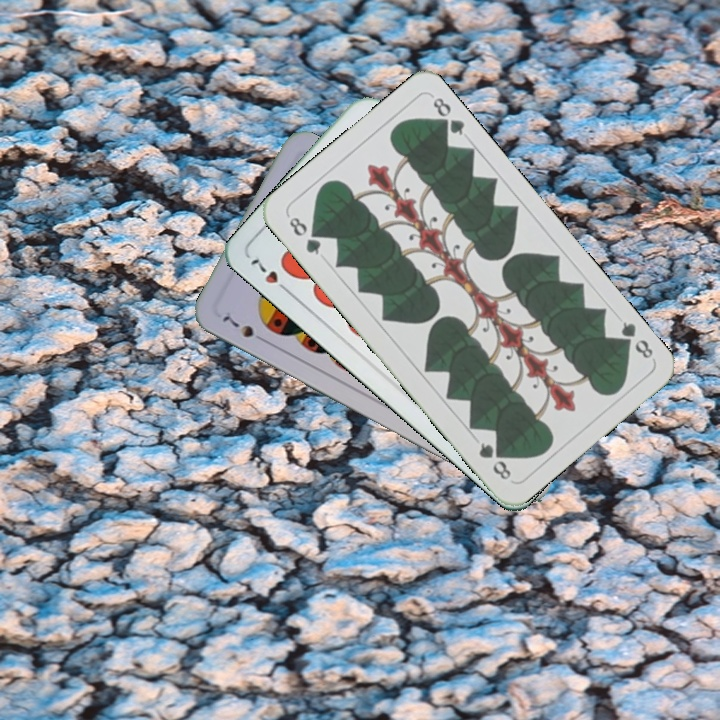G8: (283, 211, 324, 258), (613, 317, 656, 361)
H7: (246, 254, 294, 297)
S7: (218, 311, 270, 346)
